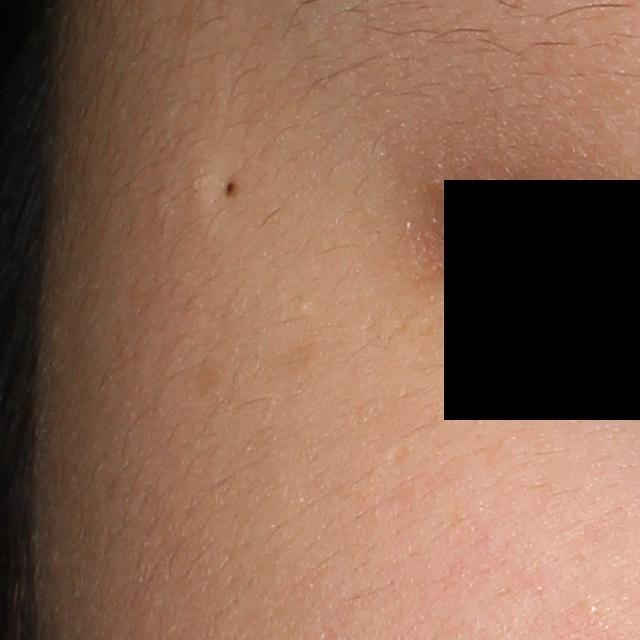nevus: (221, 177, 243, 203)
